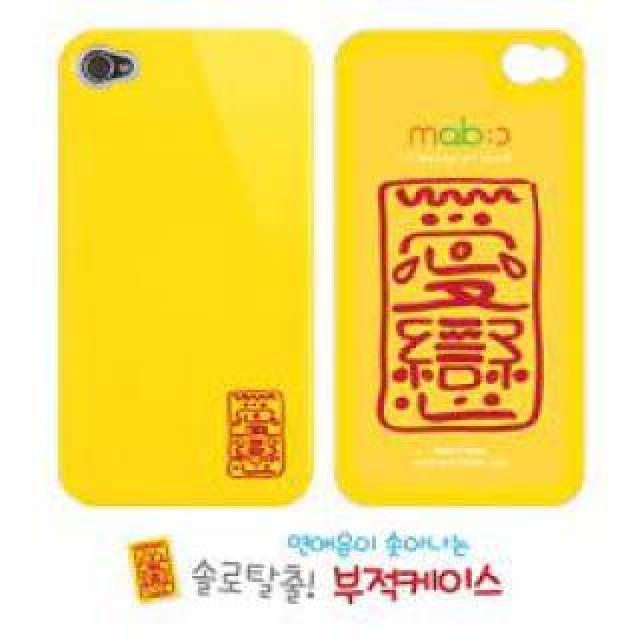smart phone: (50, 22, 318, 513)
